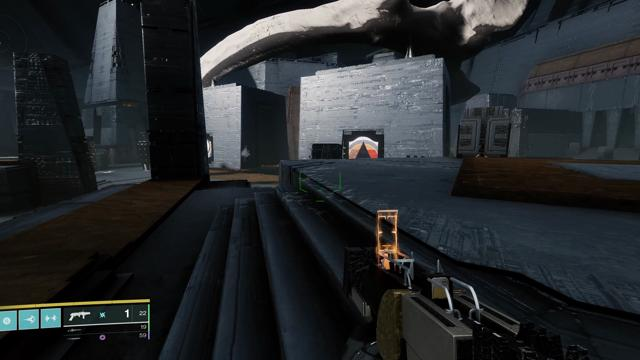pyramid: (348, 136, 378, 159)
traveler: (206, 139, 212, 158)
